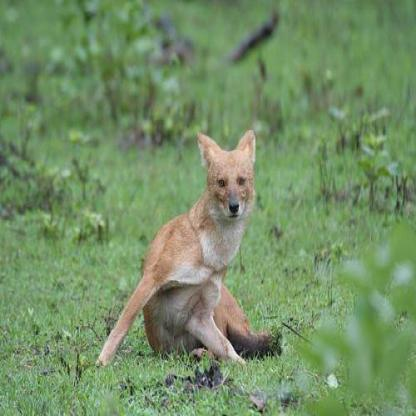dhole: (92, 126, 280, 371)
